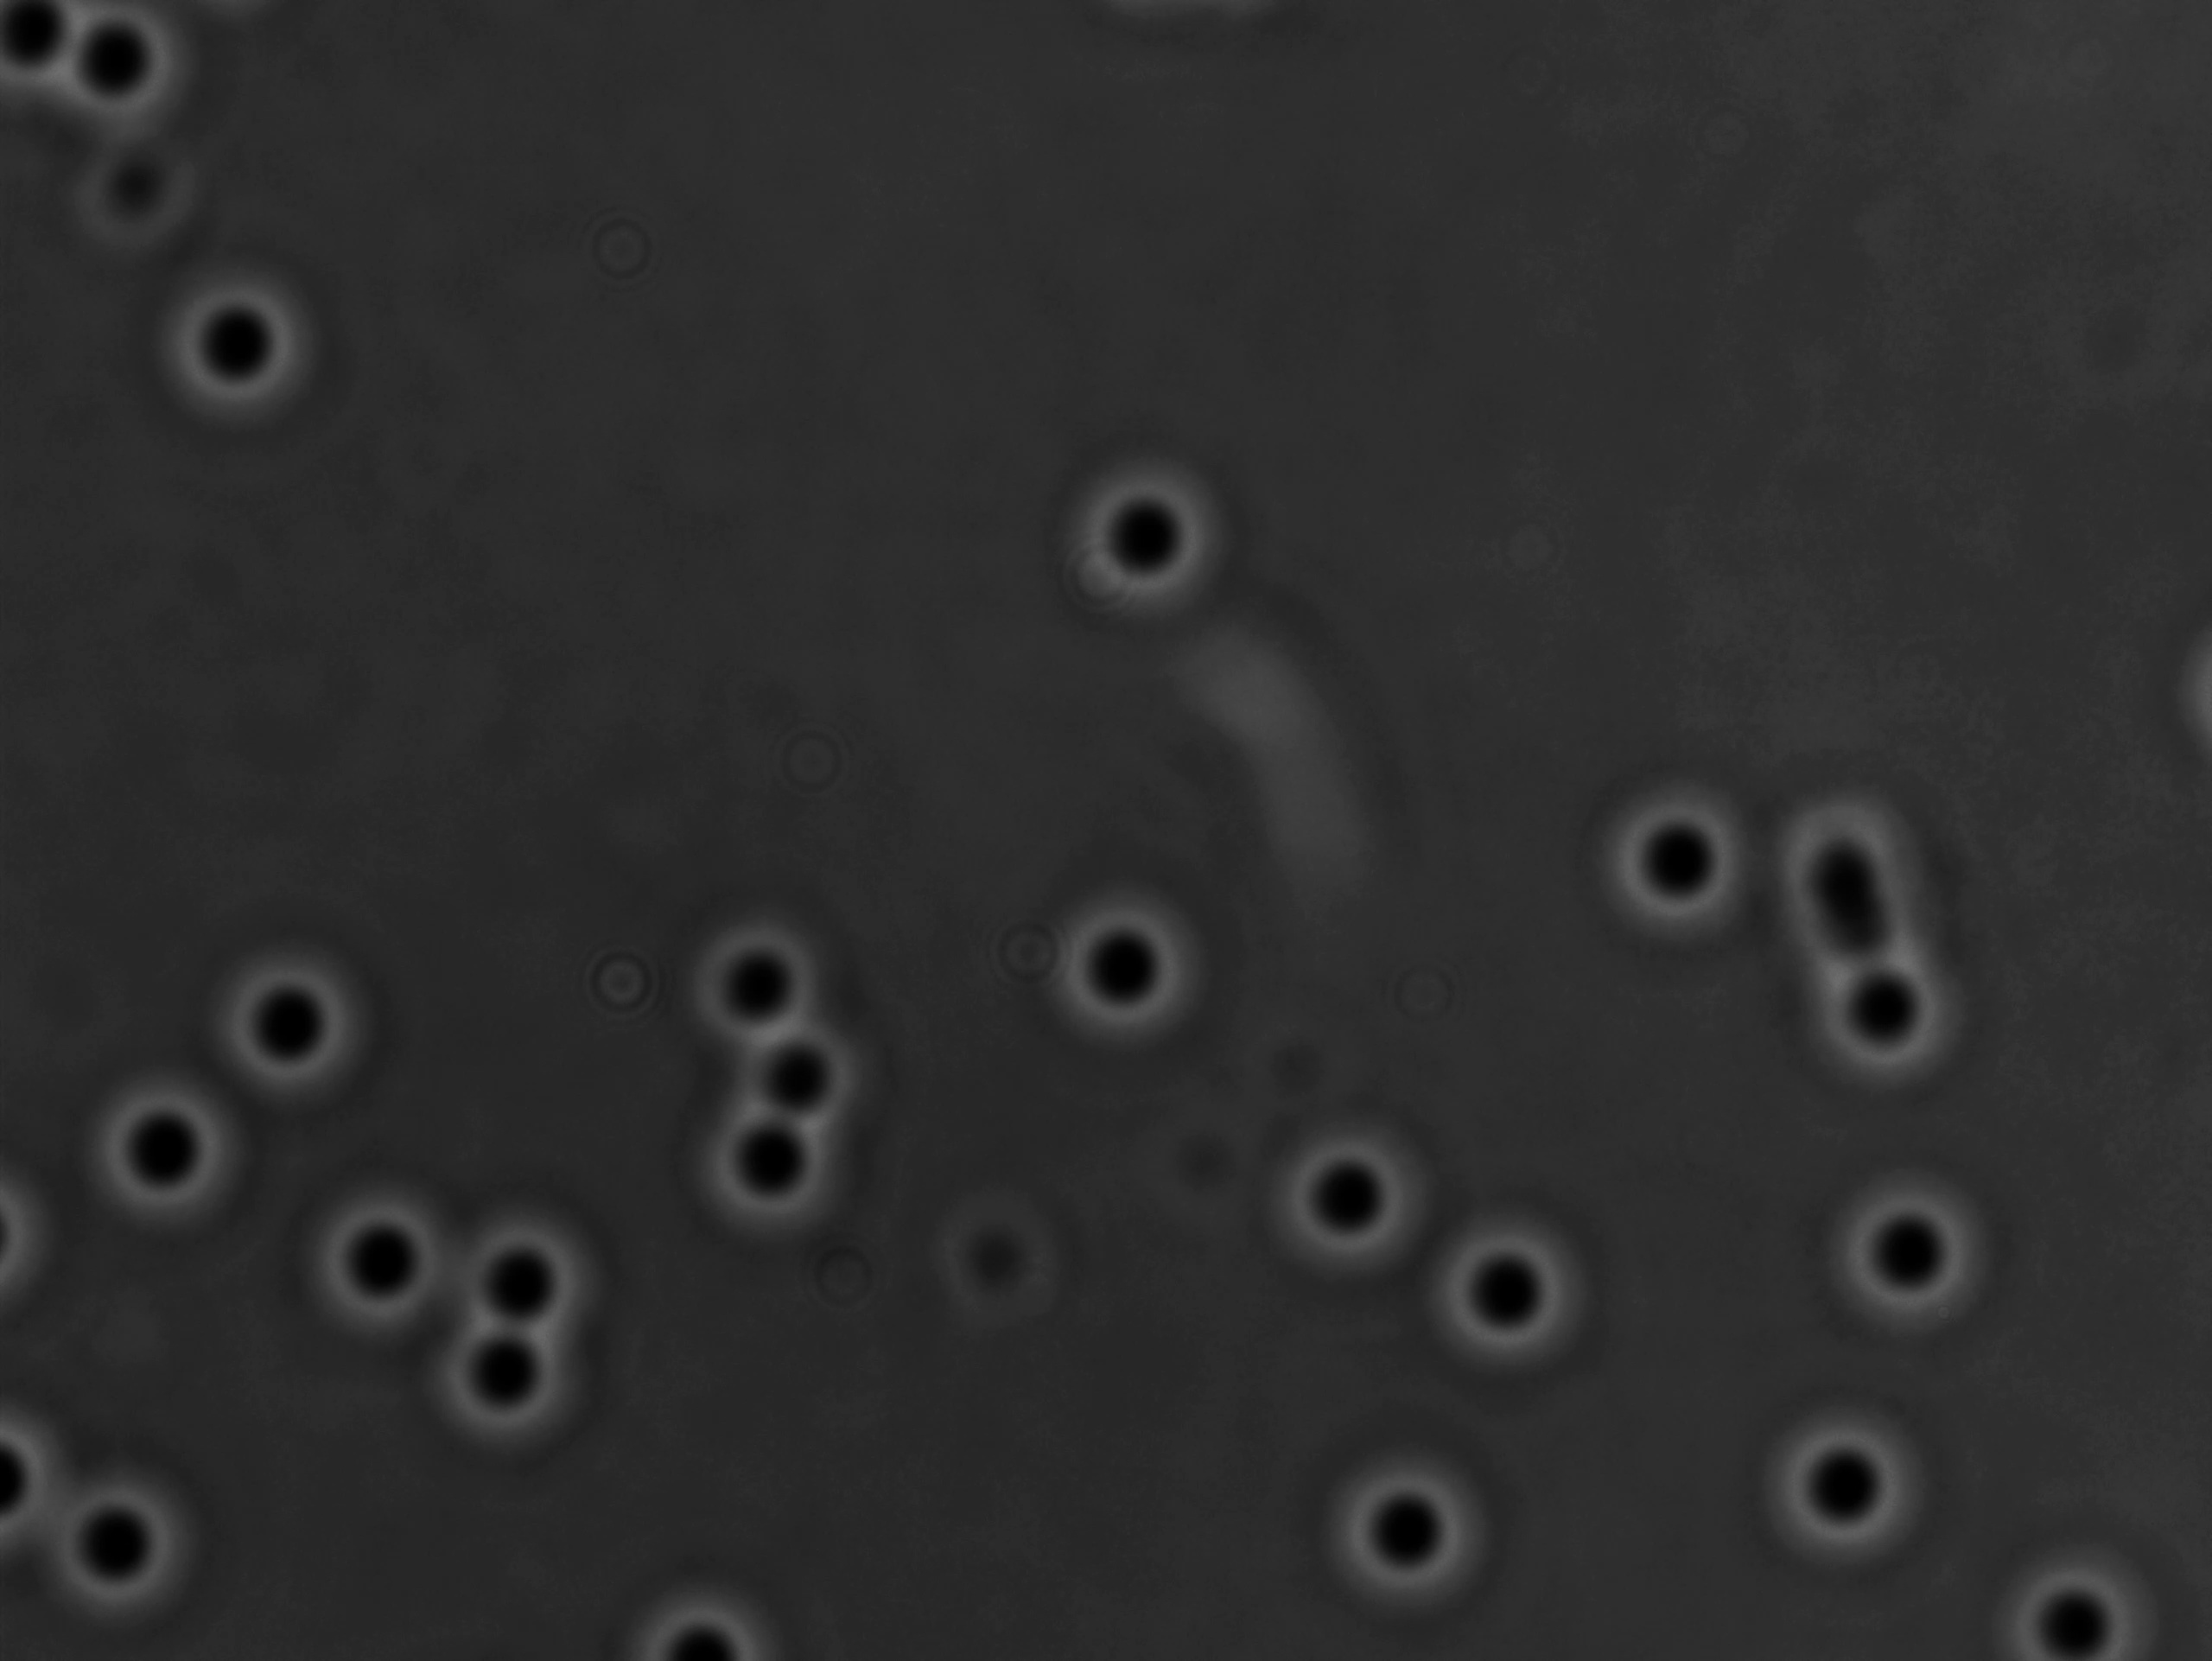depth:-80: (1813, 1153, 2017, 1343), (412, 1279, 616, 1469), (199, 923, 394, 1115), (1575, 769, 1772, 956), (70, 1056, 267, 1242), (24, 1452, 218, 1637), (1744, 1405, 1936, 1589), (1038, 876, 1228, 1059), (450, 1181, 635, 1364), (663, 883, 850, 1064), (1410, 1214, 1600, 1392), (288, 1172, 478, 1350), (677, 1071, 865, 1247), (1793, 921, 1980, 1097), (1036, 443, 1214, 626), (705, 986, 893, 1155), (162, 255, 338, 433), (1261, 1111, 1441, 1286), (1324, 1445, 1499, 1610)
